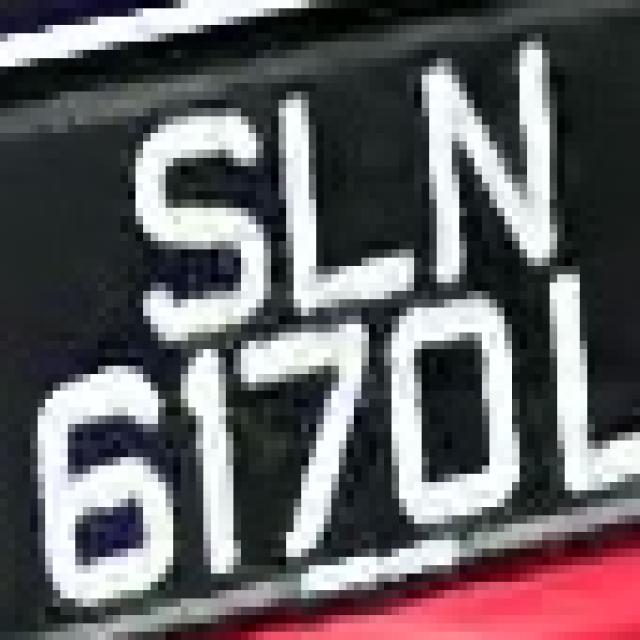0: (361, 299, 527, 549)
1: (166, 341, 241, 615)
6: (30, 349, 181, 607)
7: (234, 307, 376, 574)
L: (241, 66, 444, 341), (519, 233, 625, 482)
N: (414, 33, 565, 299)
S: (105, 83, 271, 358)
